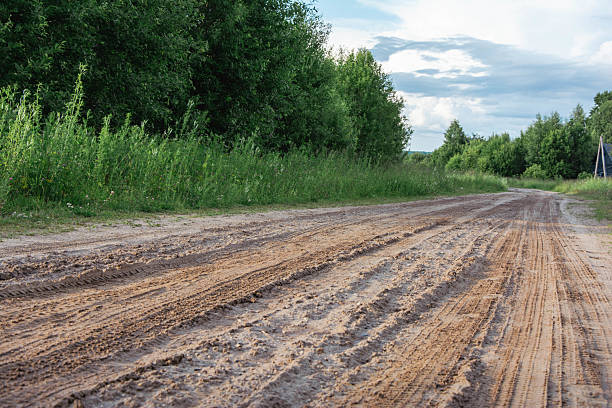vehicle_track: (0, 191, 611, 406)
